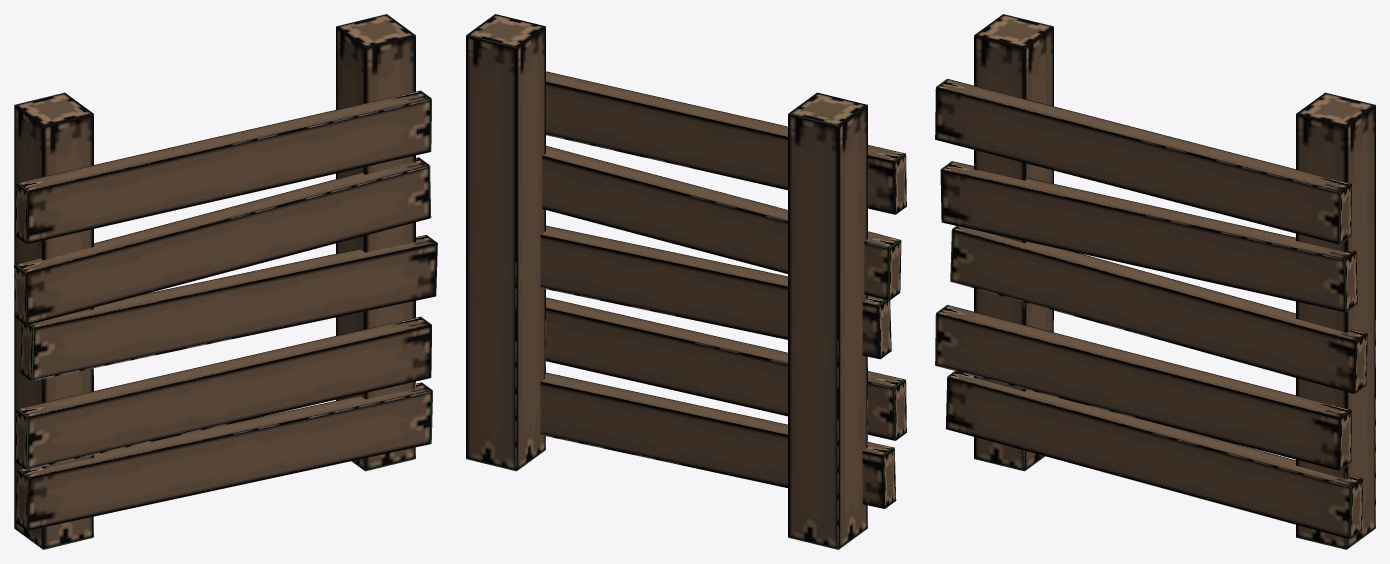
File: deco_winter_woodenFence_longBigPoles.FBX
The picture shows the model from 3 angles, left to right: view 1: azimuth 30°, elevation 25°; view 2: azimuth 150°, elevation 25°; view 3: azimuth 330°, elevation 25°; orthographic projection.
Visible parts, largest first — view 1: deco_winter_woodenFence_longBigPoles; view 2: deco_winter_woodenFence_longBigPoles; view 3: deco_winter_woodenFence_longBigPoles.
Boxes of the visible parts, bbox=[...] form: deco_winter_woodenFence_longBigPoles: bbox=[14, 14, 437, 549]; deco_winter_woodenFence_longBigPoles: bbox=[466, 14, 906, 549]; deco_winter_woodenFence_longBigPoles: bbox=[935, 14, 1375, 549].
Size of the model in its own units: 4.11 by 4 by 0.6898.
Materials: 1 (1 with a texture image).
